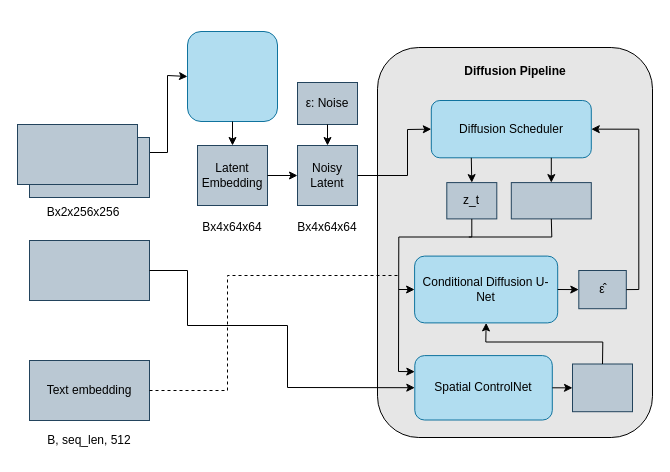
Some shapes in this 670 by 472 pixel diagram are drawn without their labels. Here are the shapes that lost their labels. From the top down, the centre of each, then its label:
At (x=232, y=76): "VAE Encoder".
At (x=77, y=154): "Batch of chunked marcro height and biome maps".
At (x=550, y=200): "t: diffusion step".
At (x=89, y=270): "Border Context and Mask".
At (x=602, y=387): "ControlNet Residuals".
